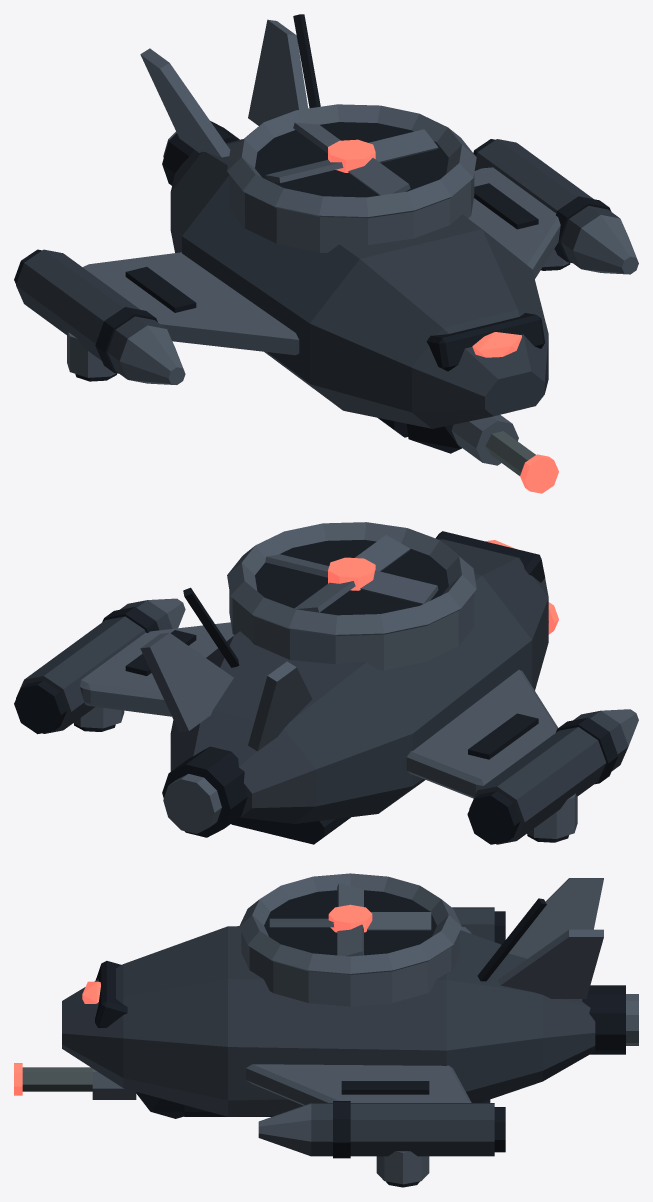
The model's file is m_drone.glb.
The picture shows the model from 3 angles, top to bottom: view 1: azimuth 30°, elevation 25°; view 2: azimuth 150°, elevation 25°; view 3: azimuth 270°, elevation 25°; orthographic projection. The views are drawn at different scales.
Visible parts, largest first — view 1: Drone shell, Lift fan; view 2: Drone shell, Lift fan; view 3: Drone shell, Lift fan.
Part boxes in pixels (<box>): Drone shell: <box>14,14,638,493</box>; Lift fan: <box>265,122,438,195</box>; Drone shell: <box>14,522,638,844</box>; Lift fan: <box>265,535,438,612</box>; Drone shell: <box>14,873,638,1187</box>; Lift fan: <box>269,883,431,956</box>.
Size of the model in its own units: 1.2 by 0.6168 by 1.43.
